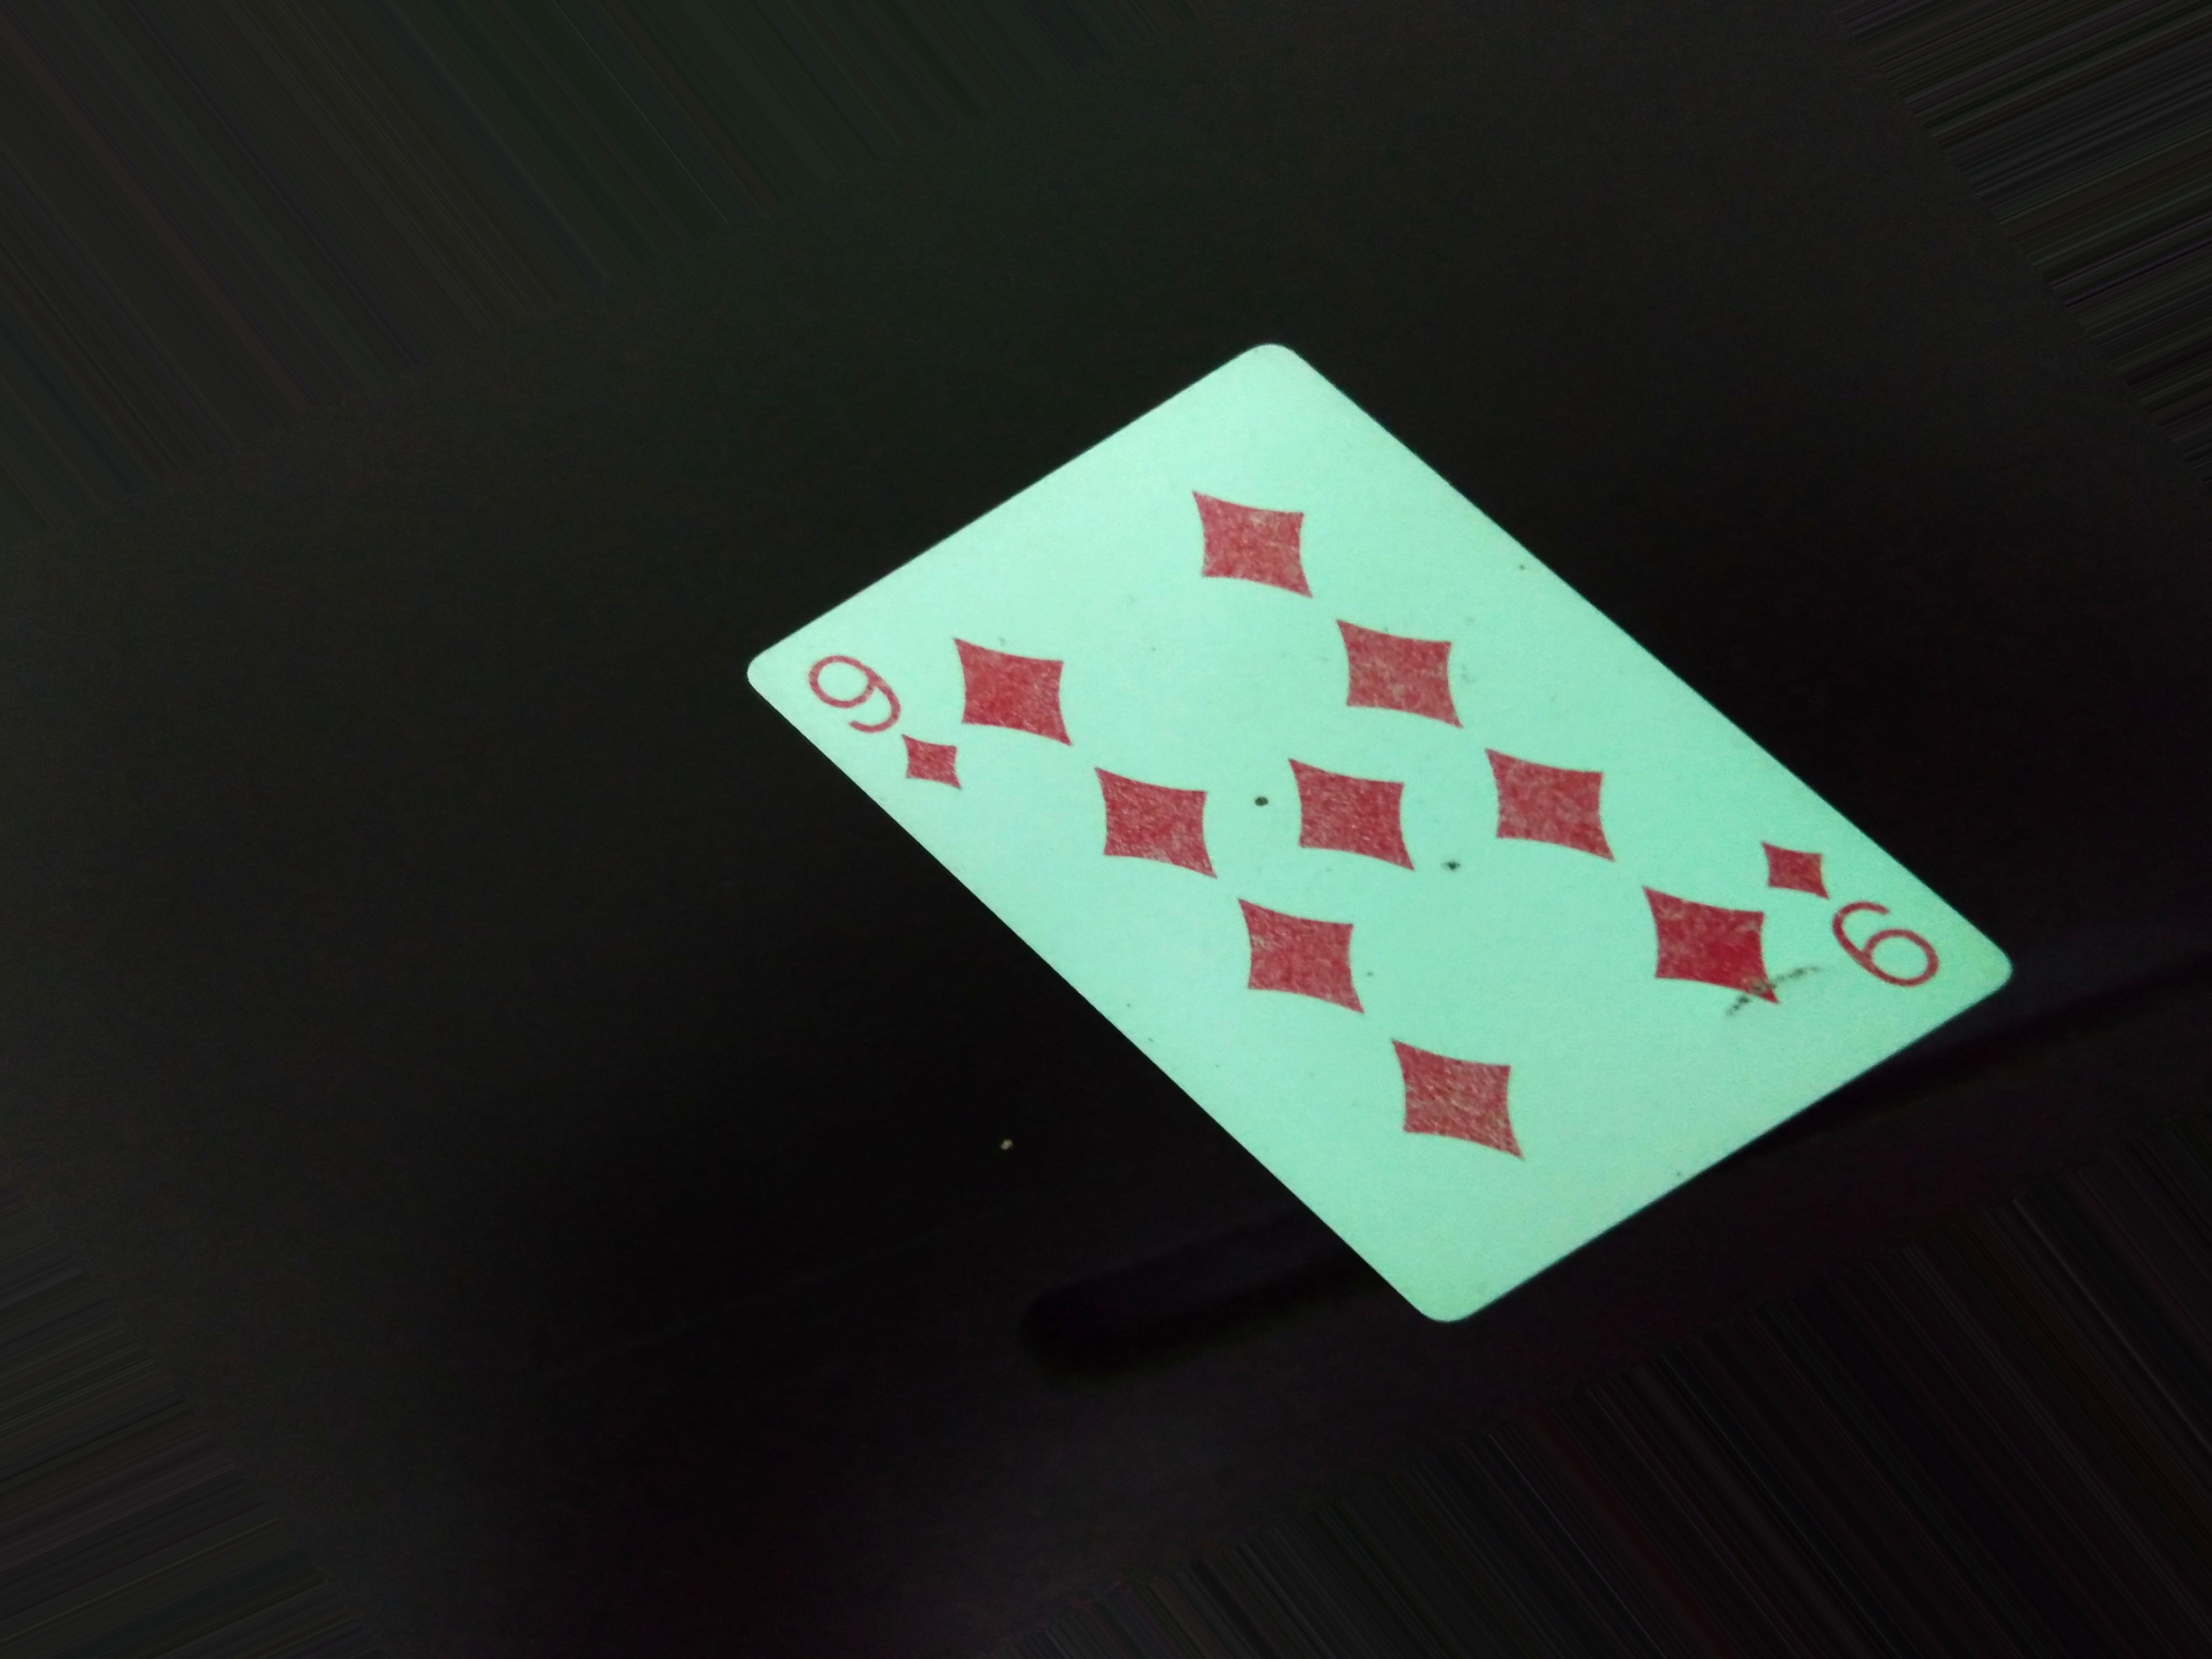9D: (796, 643, 1001, 849)
